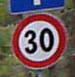limite 30: (9, 12, 67, 69)
